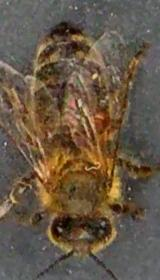varroa_mite: (86, 107, 116, 134)
